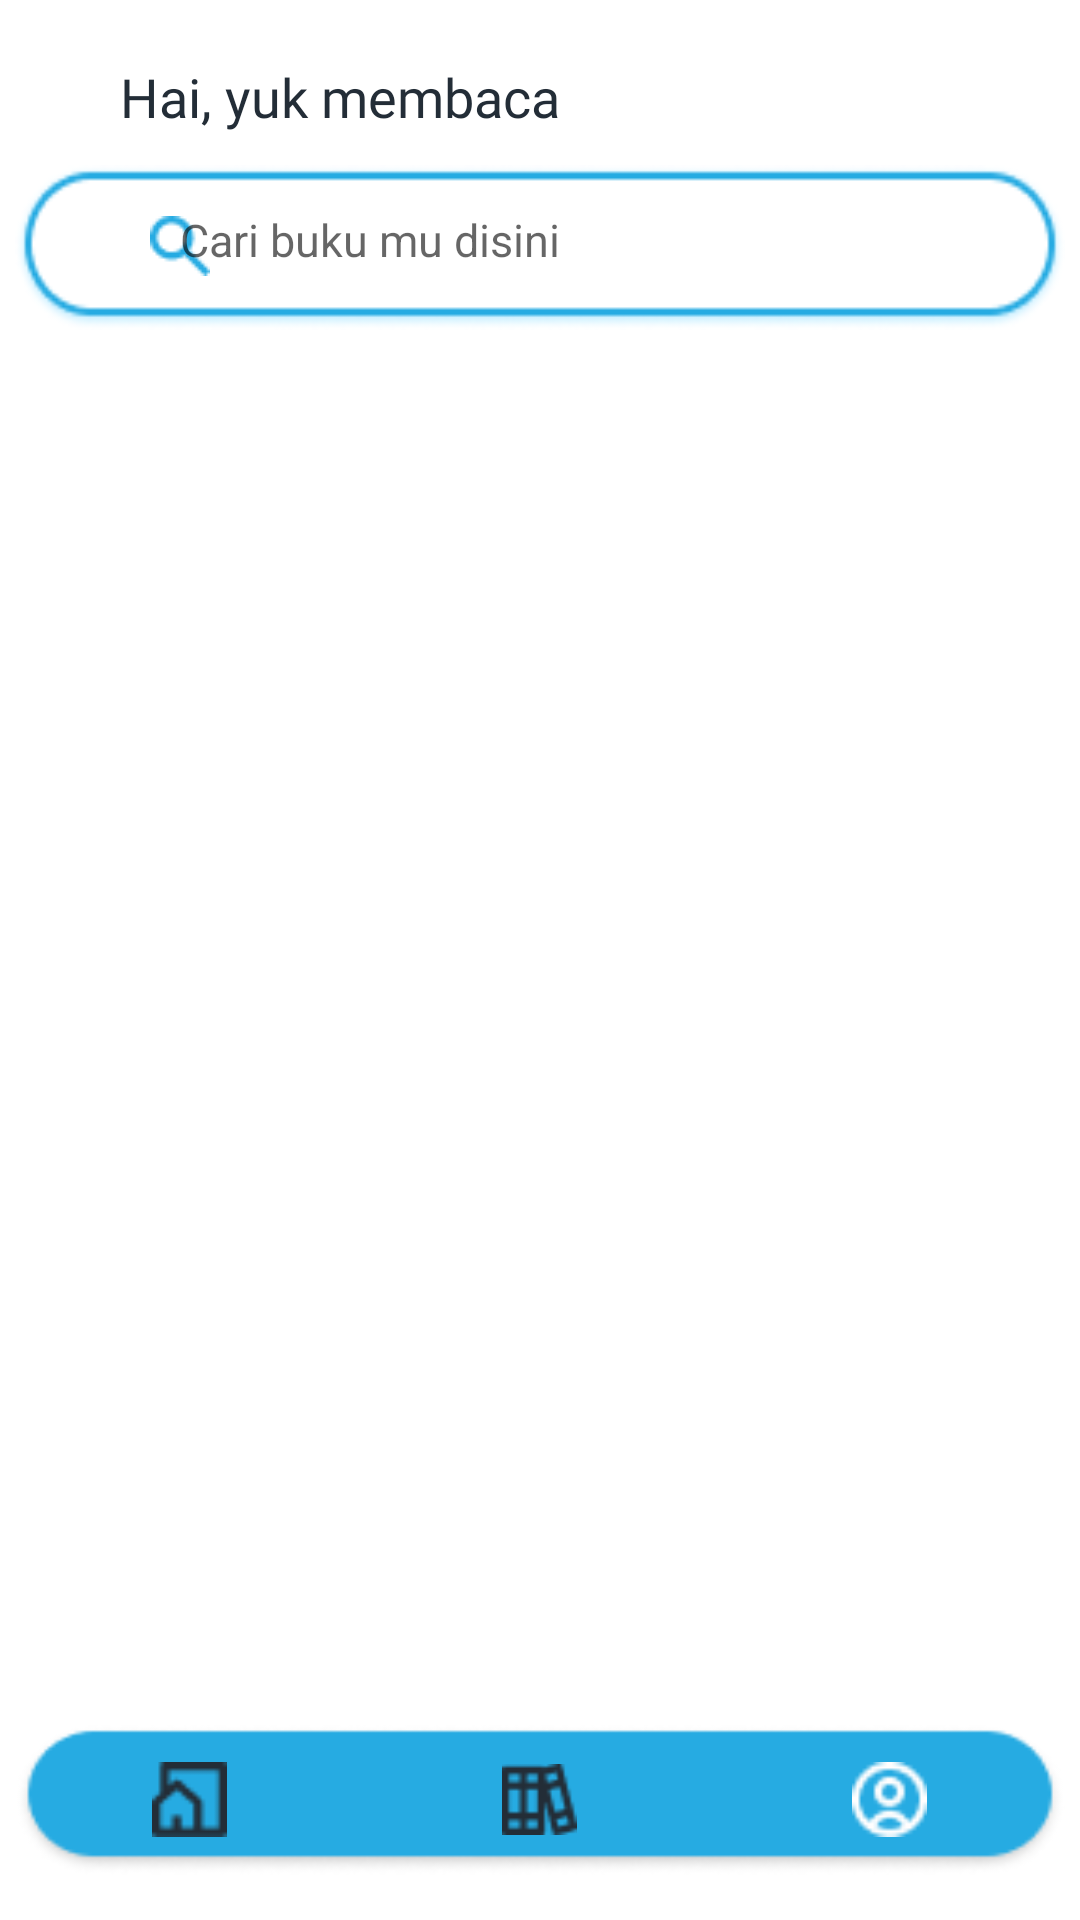

Named icons in this screenshot (1080×1920) and their centers, (x=x, y=y):
searchicon: (x=180, y=246)
